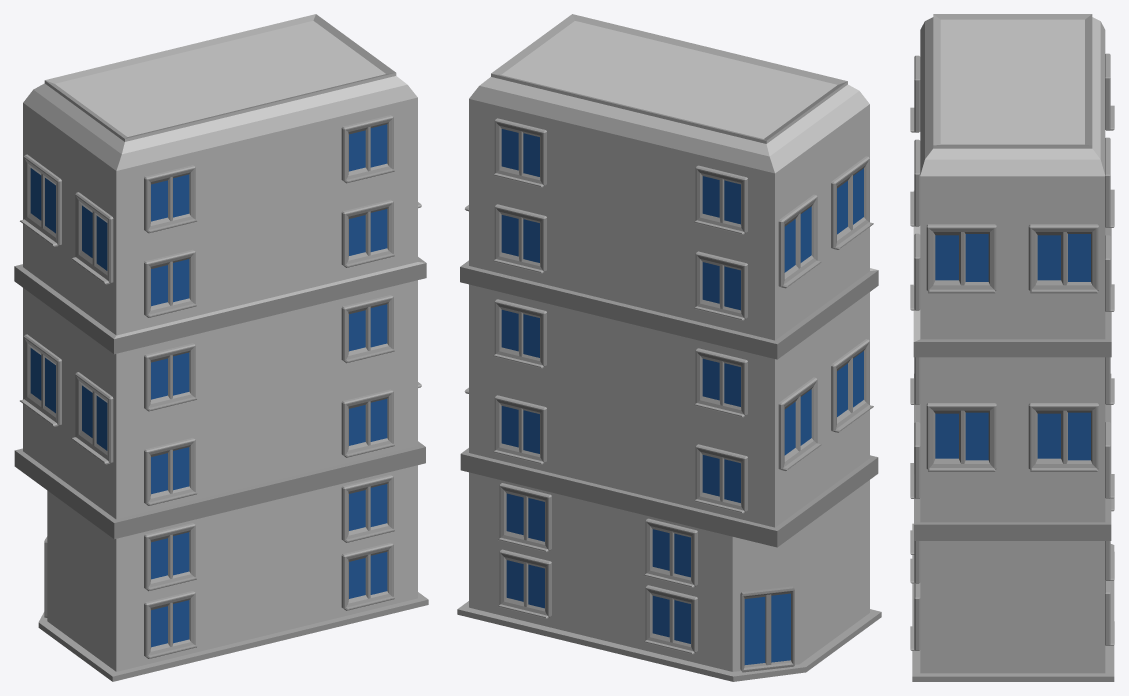
The model's file is white_building3.glb.
The picture shows the model from 3 angles, left to right: view 1: azimuth 30°, elevation 25°; view 2: azimuth 150°, elevation 25°; view 3: azimuth 270°, elevation 25°; orthographic projection. The views are drawn at different scales.
Parts seen in each view (by area): view 1: WHITE BUILDING3.001_COLOR.009_0; view 2: WHITE BUILDING3.001_COLOR.009_0; view 3: WHITE BUILDING3.001_COLOR.009_0.
Part boxes in pixels (box(x1,y1,x2,y2)): WHITE BUILDING3.001_COLOR.009_0: box(14, 14, 428, 681); WHITE BUILDING3.001_COLOR.009_0: box(457, 14, 881, 681); WHITE BUILDING3.001_COLOR.009_0: box(910, 14, 1114, 681).
Size of the model in its own units: 2.2 by 3.51 by 1.24.
1 material, 1 textured.
